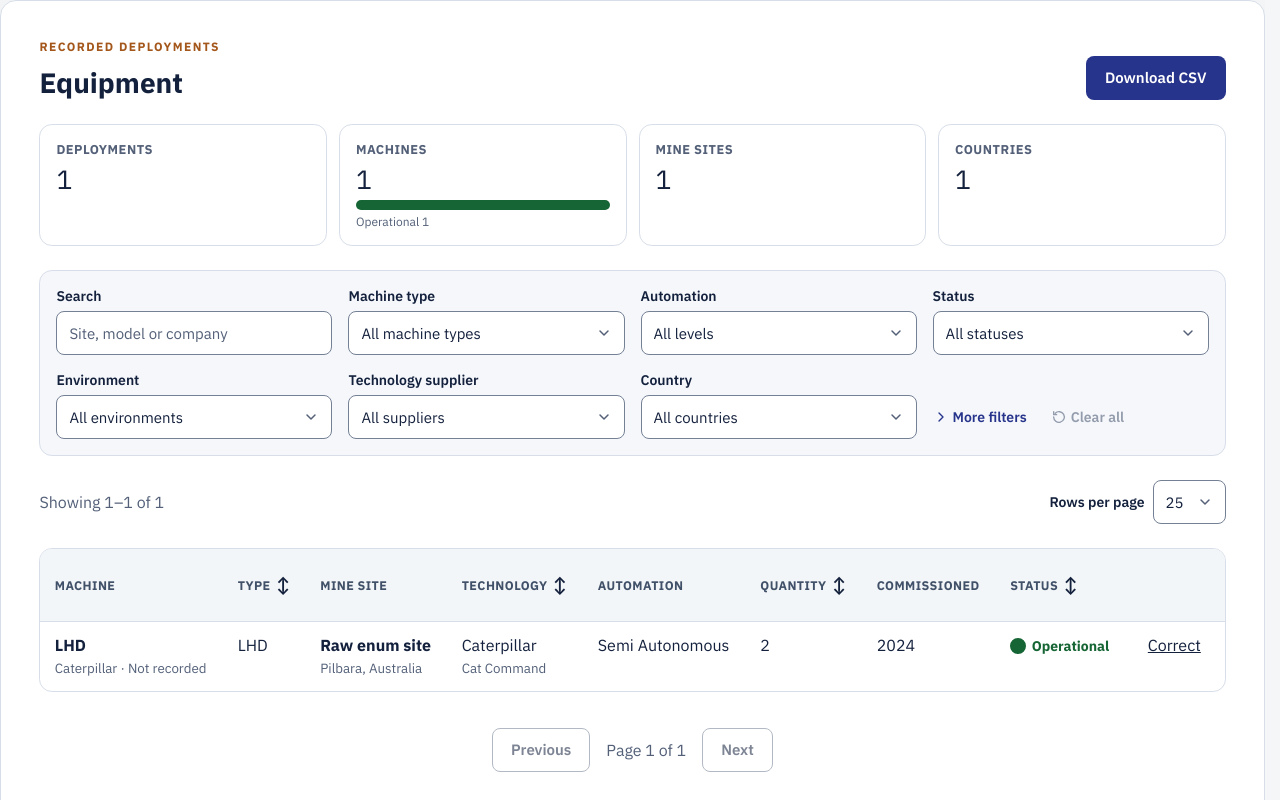
Test: EquipmentPage › formats raw live register enums at the view boundary
Click the button named "correct raw enum site" at (1174,645), box [1140,623,1209,667]
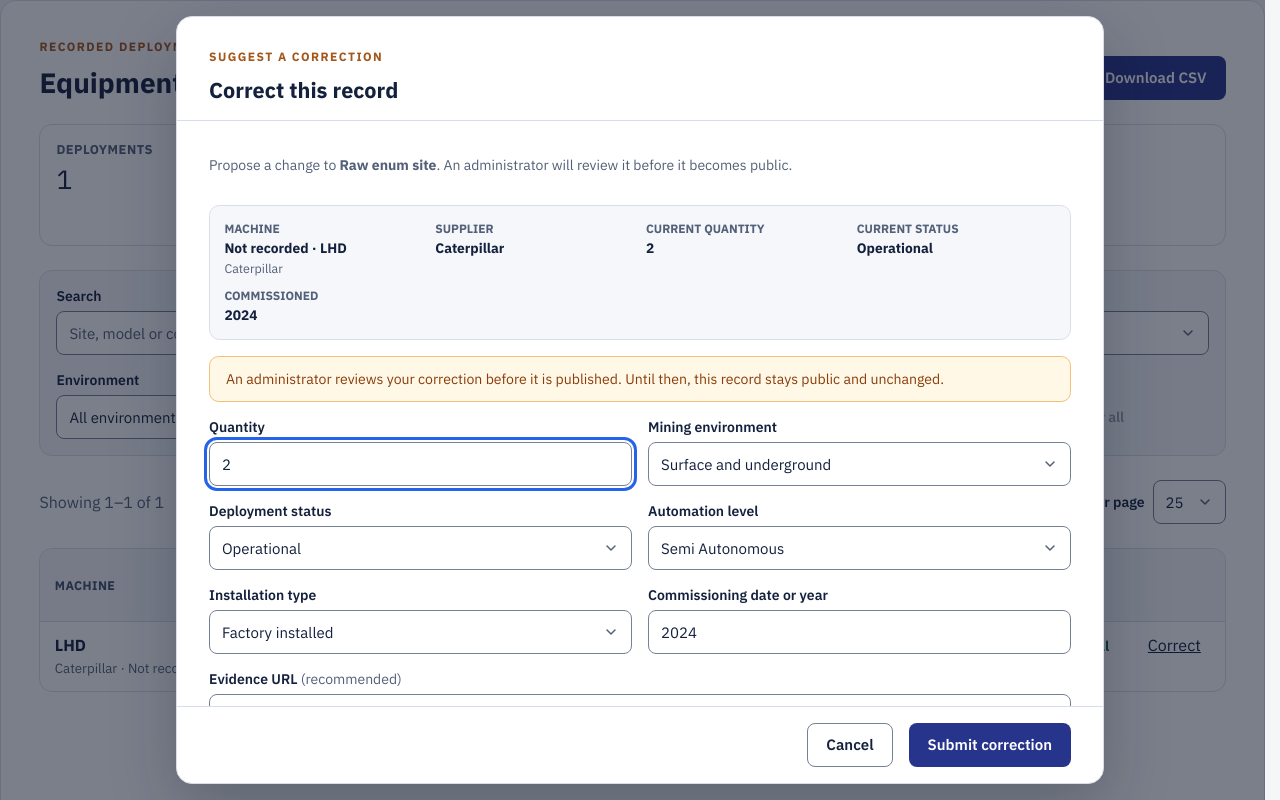
expect the dropdown labelled "Mining environment" shows "Surface and underground": met, box [648,442,1071,486]
